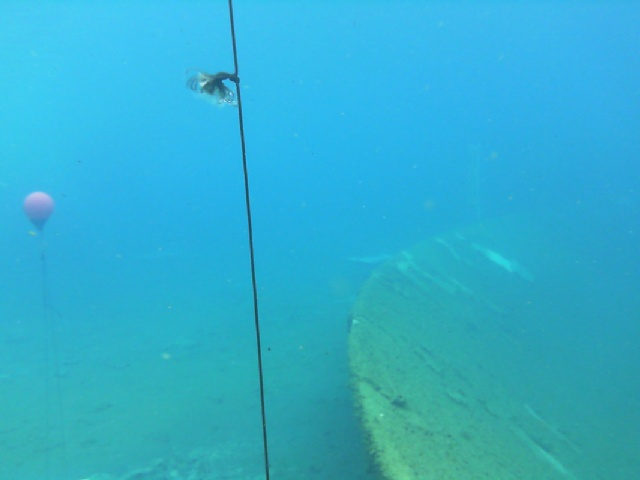buoy_red: (21, 191, 55, 233)
